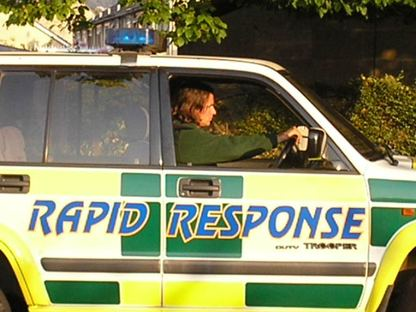ambulance: (0, 29, 415, 309)
